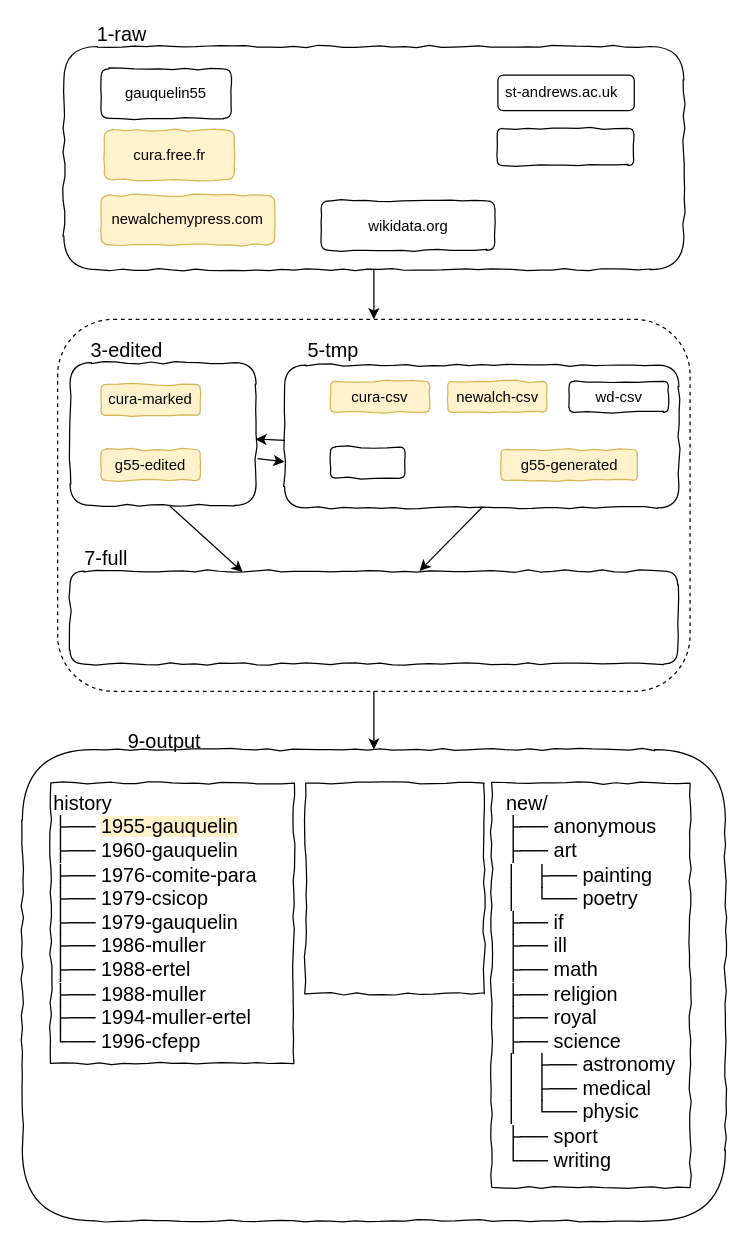
This 746x1242 diagram has some shape labels left out. The shapes that lost their labels are listed below. From the top down, each one's centre as x and y in pixels, then its label:
At (565,146): "fabpedigree.com".
At (367,462): "wd-json".
At (394,888): "datasets/ ├─ cura └ ─ newalchemy".
